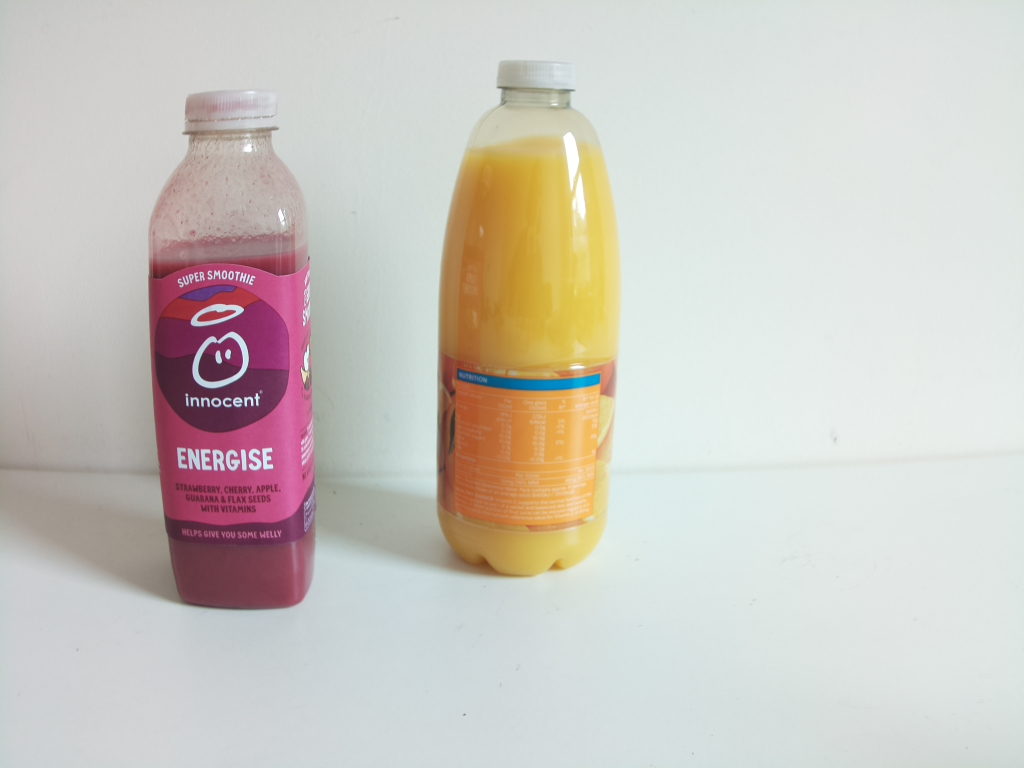juice: (142, 84, 324, 614), (433, 56, 615, 580)
